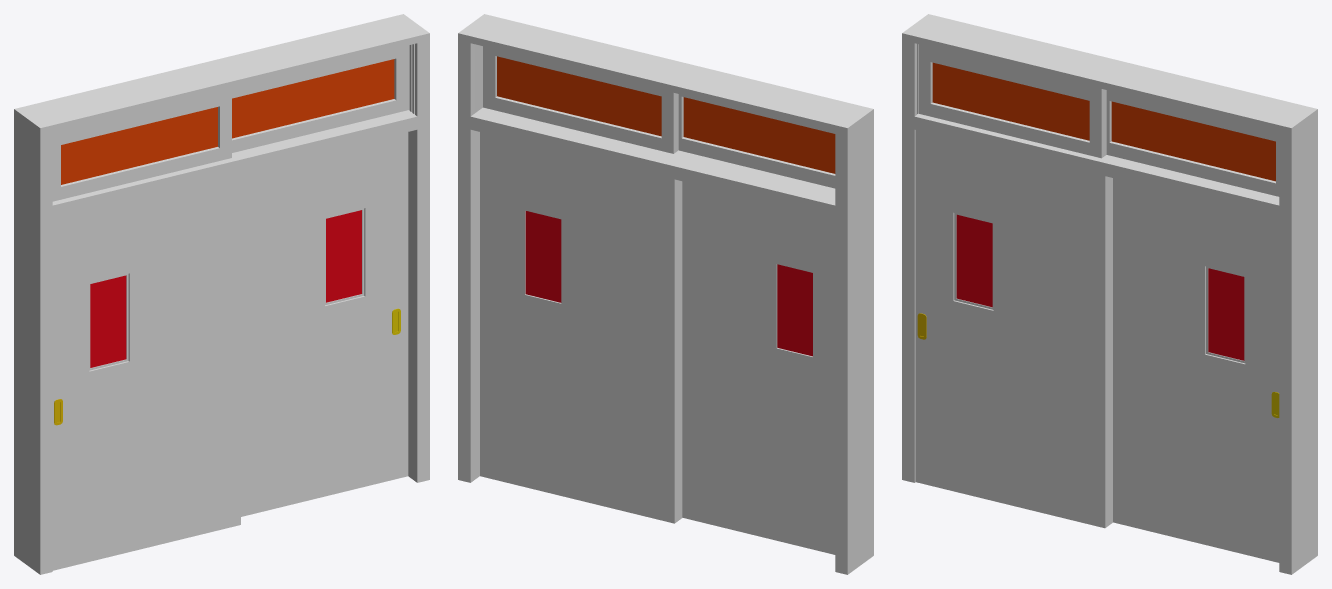
File: door.fbx
3 views of the same model, side by side, from view 1: azimuth 30°, elevation 25°; view 2: azimuth 150°, elevation 25°; view 3: azimuth 330°, elevation 25° (orthographic).
Parts seen in each view (by area): view 1: Cube.357, Cube.356, Cube.355; view 2: Cube.357, Cube.355, Cube.356; view 3: Cube.356, Cube.357, Cube.355.
Boxes of the visible parts, x1,y1,x2,y2 form: Cube.357: (14,14,429,574); Cube.356: (52,172,240,570); Cube.355: (241,132,408,516); Cube.357: (458,14,873,574); Cube.355: (480,132,682,523); Cube.356: (682,181,835,554); Cube.356: (915,130,1112,528); Cube.357: (902,14,1317,574); Cube.355: (1113,178,1279,562).
Bounding box in the file's own units: 210 × 230 × 24.5.
